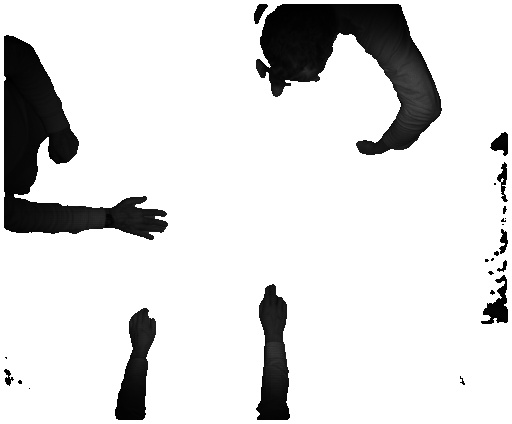fist: (49, 131, 79, 167), (352, 140, 377, 159)
hand: (116, 192, 167, 239), (256, 280, 287, 337), (128, 304, 159, 351)
